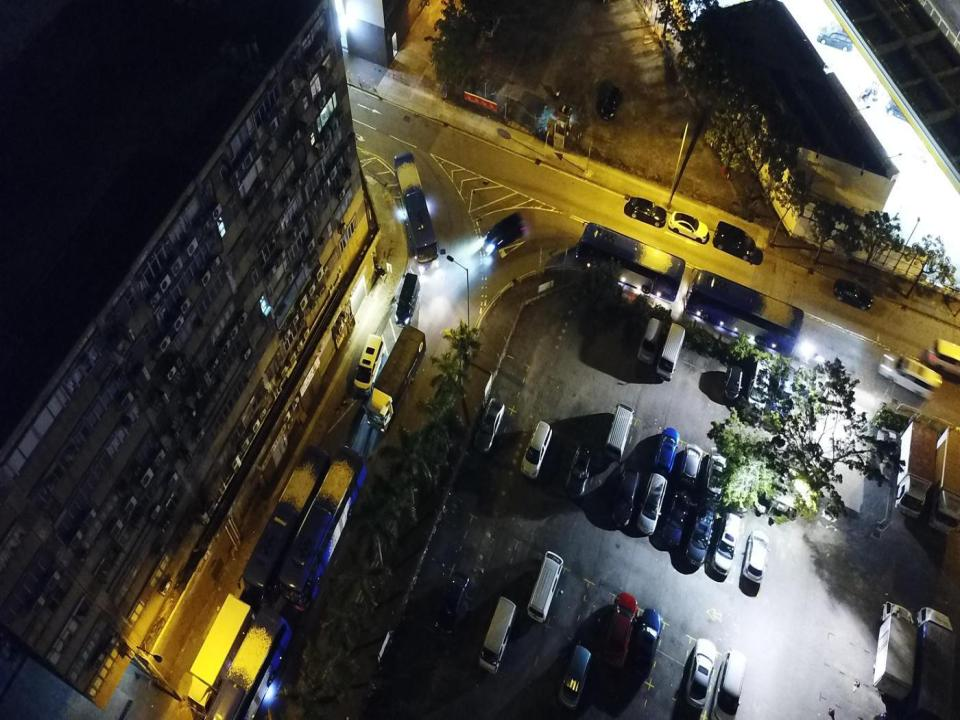bus: (244, 446, 332, 612), (278, 445, 365, 612), (200, 606, 293, 719), (686, 268, 804, 356), (576, 222, 686, 302), (394, 150, 438, 264)
car: (478, 595, 518, 674), (601, 592, 638, 668), (629, 607, 664, 679), (434, 569, 470, 636), (684, 639, 718, 708), (711, 651, 745, 717), (558, 643, 591, 709), (638, 472, 668, 536), (484, 212, 526, 253), (474, 398, 505, 453), (611, 468, 639, 527), (662, 489, 690, 548), (702, 446, 730, 504), (887, 89, 928, 128), (726, 456, 753, 513), (742, 530, 769, 584), (566, 444, 592, 499), (704, 446, 728, 505), (833, 278, 873, 310), (627, 197, 667, 228), (669, 210, 709, 241), (679, 442, 704, 489), (638, 317, 662, 365), (654, 428, 680, 472), (723, 355, 746, 402), (482, 12, 501, 37)
truck: (187, 592, 257, 719), (366, 324, 427, 434), (906, 608, 954, 719), (872, 600, 918, 701), (896, 420, 938, 519), (928, 426, 960, 534)
van: (878, 351, 942, 399), (527, 549, 564, 625), (711, 514, 743, 578), (353, 334, 386, 395), (520, 420, 552, 480), (686, 502, 715, 568), (712, 220, 756, 262), (605, 403, 635, 463), (656, 322, 686, 381), (769, 364, 796, 426), (746, 354, 771, 417), (396, 272, 420, 327), (928, 339, 960, 377), (817, 24, 854, 51), (602, 85, 622, 121)
